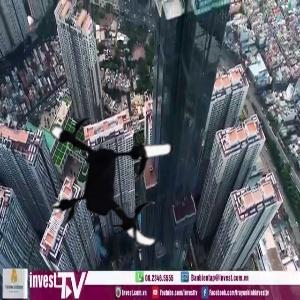drone: (38, 101, 196, 259)
